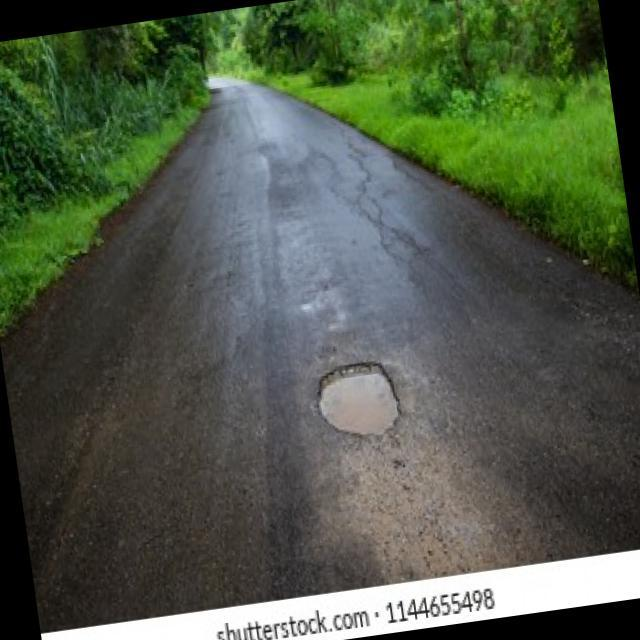Pothole: (310, 356, 407, 448)
